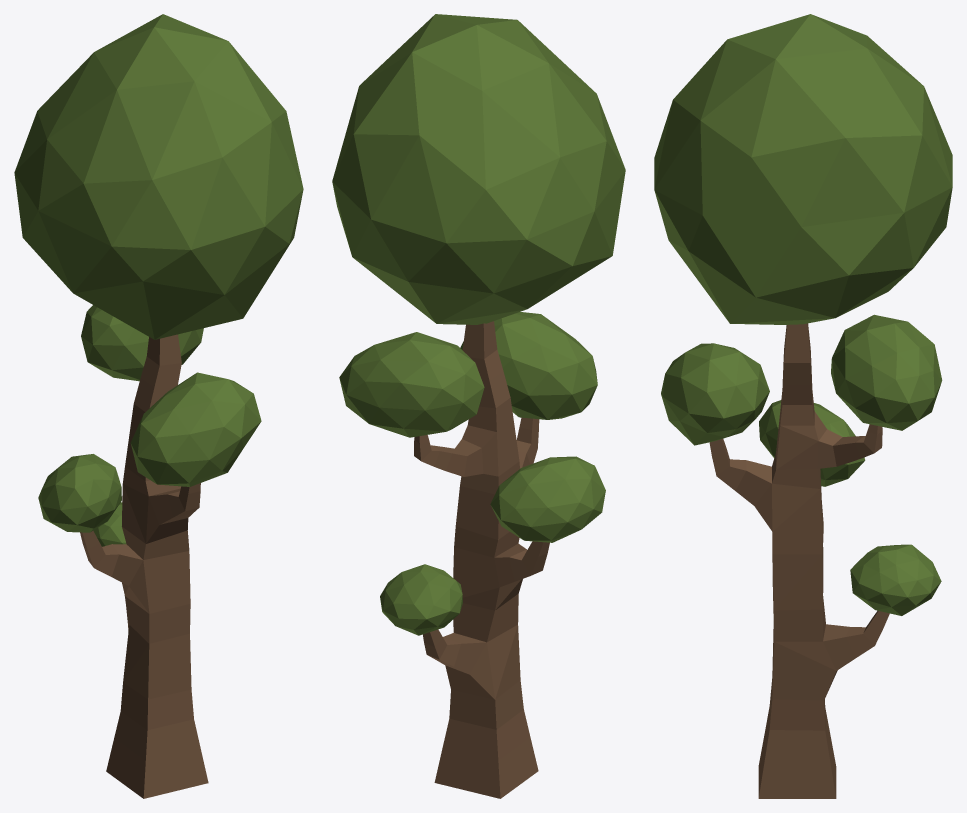
The model's file is SequoiaTree2.fbx.
The picture shows the model from 3 angles, left to right: view 1: azimuth 30°, elevation 25°; view 2: azimuth 150°, elevation 25°; view 3: azimuth 270°, elevation 25°; orthographic projection. The views are drawn at different scales.
Parts seen in each view (by area): view 1: SequoiaTree2Foliage1, SequoiaTree2, SequoiaTree2Foliage3, SequoiaTree2Foliage4, SequoiaTree2Foliage2, SequoiaTree2Foliage5; view 2: SequoiaTree2Foliage1, SequoiaTree2, SequoiaTree2Foliage2, SequoiaTree2Foliage3, SequoiaTree2Foliage4, SequoiaTree2Foliage5; view 3: SequoiaTree2Foliage1, SequoiaTree2, SequoiaTree2Foliage2, SequoiaTree2Foliage3, SequoiaTree2Foliage5, SequoiaTree2Foliage4.
Boxes of the visible parts, <box> form: SequoiaTree2Foliage1: <box>14,14,303,339</box>; SequoiaTree2: <box>80,334,208,798</box>; SequoiaTree2Foliage3: <box>130,372,261,486</box>; SequoiaTree2Foliage4: <box>38,454,121,532</box>; SequoiaTree2Foliage2: <box>81,305,203,381</box>; SequoiaTree2Foliage5: <box>93,502,126,546</box>; SequoiaTree2Foliage1: <box>332,14,625,324</box>; SequoiaTree2: <box>414,321,549,798</box>; SequoiaTree2Foliage2: <box>339,332,484,437</box>; SequoiaTree2Foliage3: <box>460,312,597,419</box>; SequoiaTree2Foliage4: <box>490,456,605,542</box>; SequoiaTree2Foliage5: <box>380,564,462,635</box>; SequoiaTree2Foliage1: <box>654,14,952,324</box>; SequoiaTree2: <box>709,323,889,798</box>; SequoiaTree2Foliage2: <box>831,314,942,430</box>; SequoiaTree2Foliage3: <box>661,343,769,445</box>; SequoiaTree2Foliage5: <box>850,544,941,615</box>; SequoiaTree2Foliage4: <box>759,400,865,486</box>.
Size of the model in its own units: 4.53 by 13.71 by 4.82.
